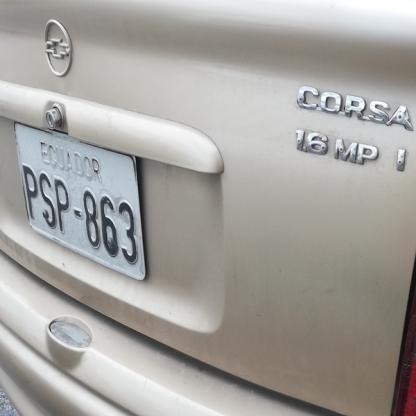Placa: (8, 117, 152, 284)
